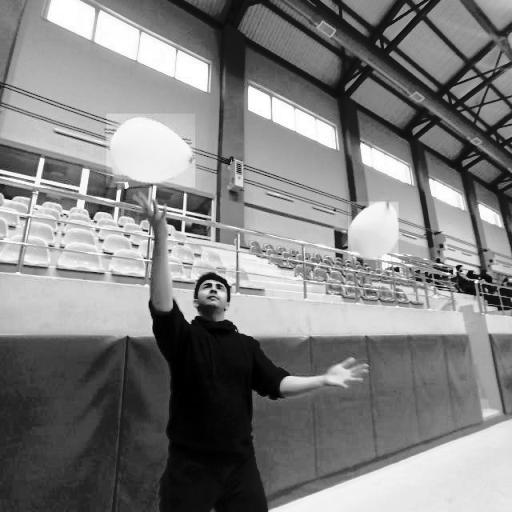balloon: (106, 114, 196, 187), (348, 202, 398, 260)
